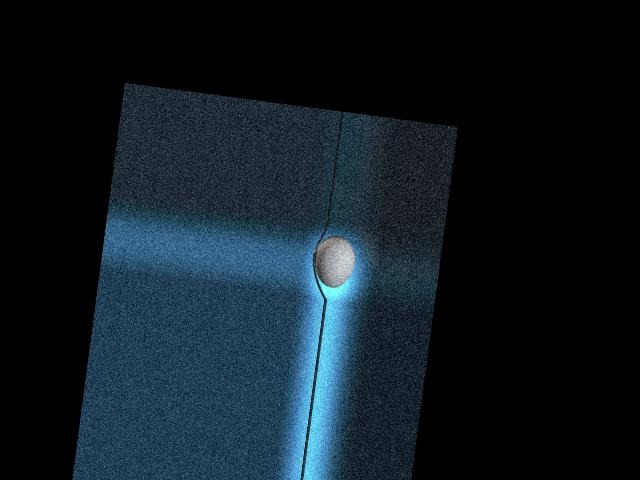egg: (311, 233, 357, 289)
